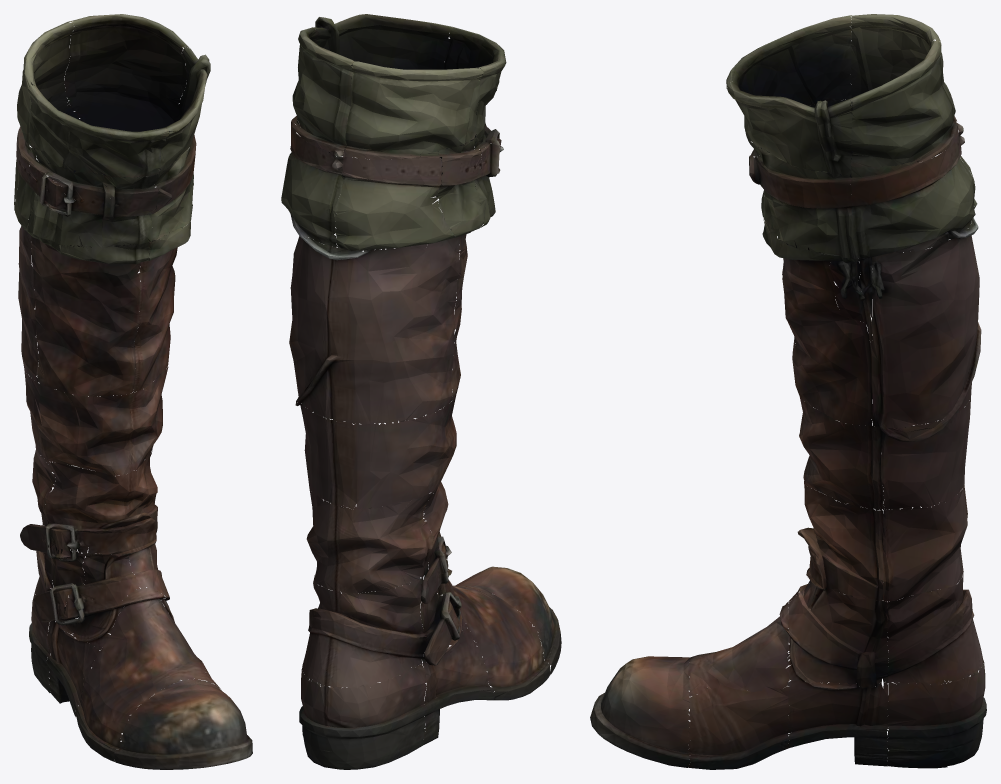
File: a_ranger_boots_L.glb
The picture shows the model from 3 angles, left to right: view 1: azimuth 30°, elevation 25°; view 2: azimuth 150°, elevation 25°; view 3: azimuth 270°, elevation 25°; orthographic projection. The views are drawn at different scales.
Visible parts, largest first — view 1: geometry_0.001; view 2: geometry_0.001; view 3: geometry_0.001.
Boxes of the visible parts, x1,y1,x2,y2 form: geometry_0.001: (14,14,252,769); geometry_0.001: (281,14,561,769); geometry_0.001: (590,14,986,769).
Bounding box in the file's own units: 0.1352 × 0.4956 × 0.2515.
Materials: 1 (1 with a texture image).
